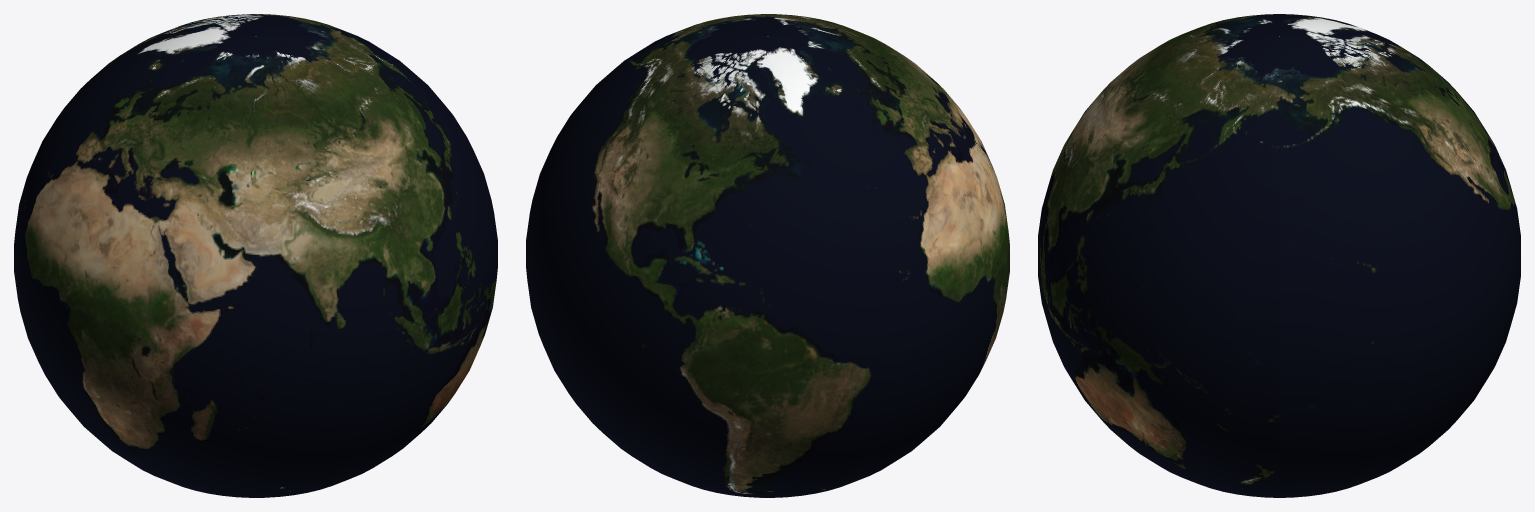
The model's file is world.dae.
3 renders of one model, left to right at view 1: azimuth 30°, elevation 25°; view 2: azimuth 150°, elevation 25°; view 3: azimuth 270°, elevation 25°, orthographic.
Visible parts, largest first — view 1: Sphere_1; view 2: Sphere_1; view 3: Sphere_1.
Part boxes in pixels (bbox=[...]): Sphere_1: bbox=[14, 14, 497, 497]; Sphere_1: bbox=[526, 14, 1009, 497]; Sphere_1: bbox=[1038, 14, 1520, 497].
Bounding box in the file's own units: 19961 × 20000 × 19921.
